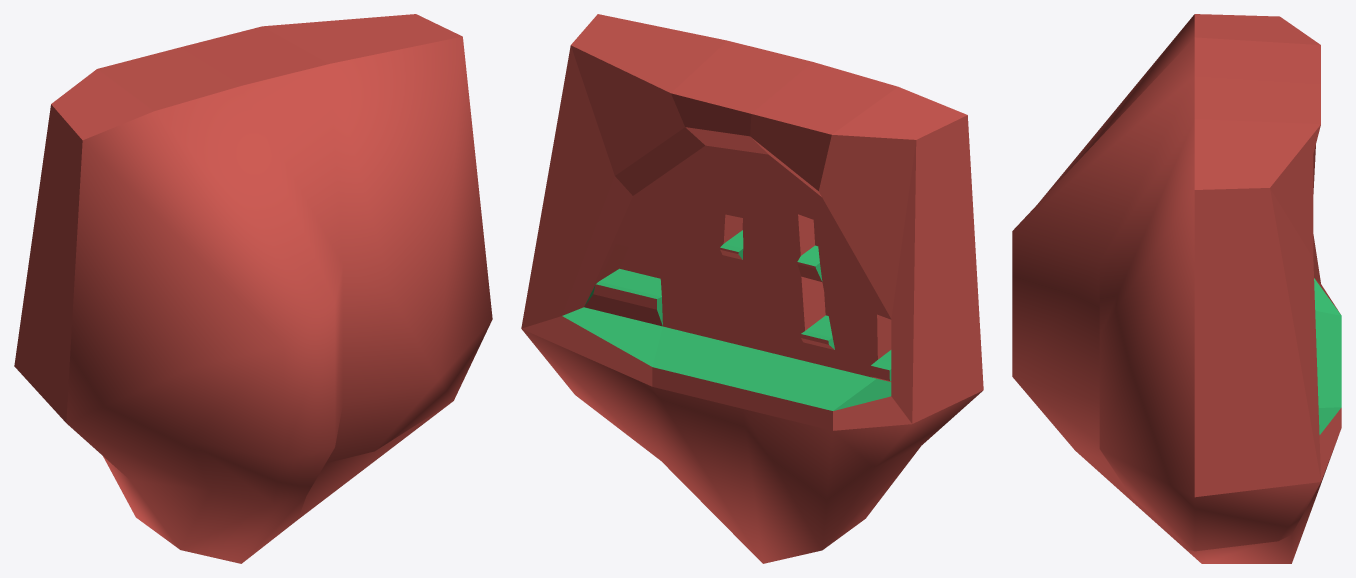
File: lacune.fbx_HousesBig.fbx
3 views of the same model, side by side, from view 1: azimuth 30°, elevation 25°; view 2: azimuth 150°, elevation 25°; view 3: azimuth 270°, elevation 25° (orthographic). The views are drawn at different scales.
Parts seen in each view (by area): view 1: HousesBig; view 2: HousesBig; view 3: HousesBig.
Part boxes in pixels (box(x1,y1,x2,y2)): HousesBig: box(14, 14, 492, 563); HousesBig: box(521, 14, 983, 563); HousesBig: box(1012, 14, 1341, 563).
Size of what is drawn, in the model's own units: 1701 by 1838 by 1128.
